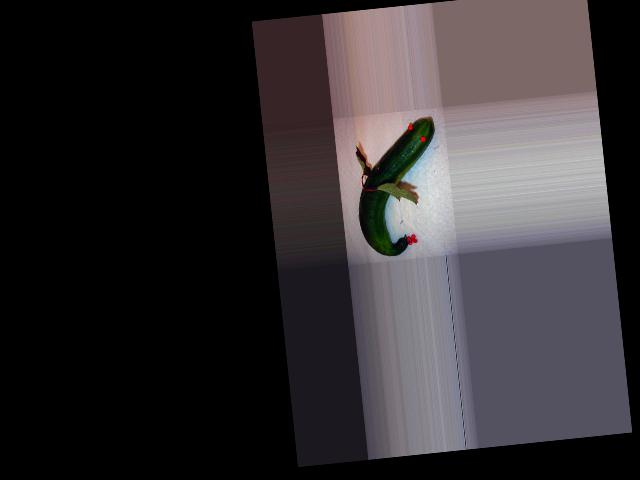cucumber: (349, 118, 447, 259)
